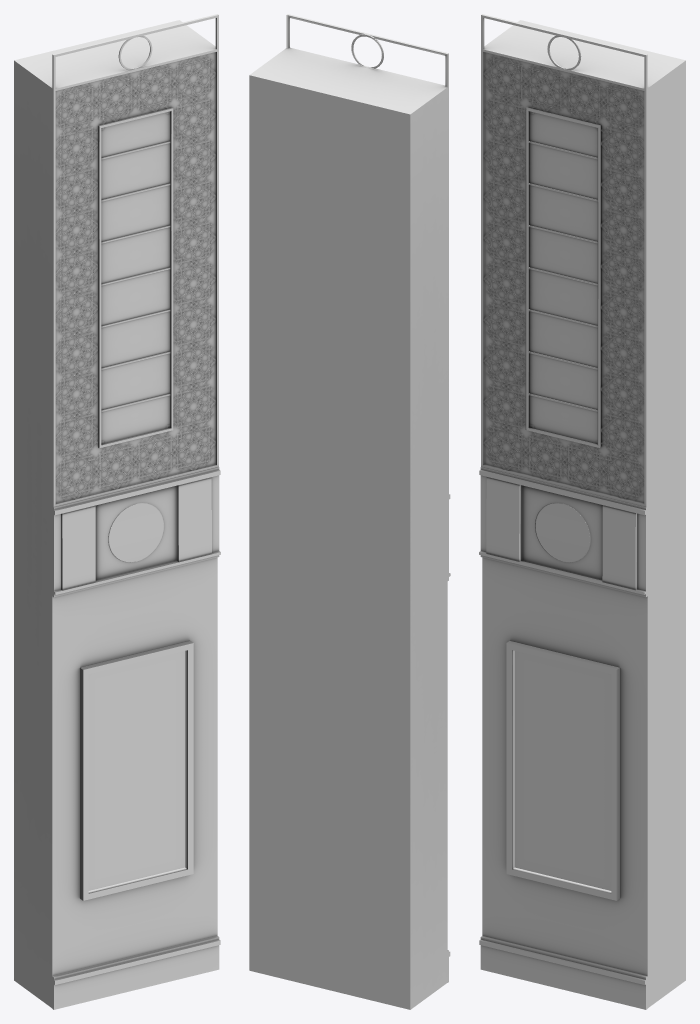
File: midwall_3.glb
3 renders of one model, left to right at view 1: azimuth 30°, elevation 25°; view 2: azimuth 150°, elevation 25°; view 3: azimuth 330°, elevation 25°, orthographic. The views are drawn at different scales.
Parts seen in each view (by area): view 1: midwall_3; view 2: midwall_3; view 3: midwall_3.
Boxes of the visible parts, <box> form: midwall_3: <box>14,14,220,1009</box>; midwall_3: <box>249,14,450,1009</box>; midwall_3: <box>479,14,685,1009</box>.
Size of the model in its own units: 1.5 by 8.26 by 0.6527.
Materials: 1 (1 with a texture image).
